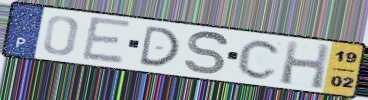0: (41, 15, 81, 57)
C: (235, 38, 284, 81)
D: (136, 25, 182, 68)
E: (79, 15, 133, 65)
H: (278, 39, 332, 91)
S: (183, 30, 231, 77)
